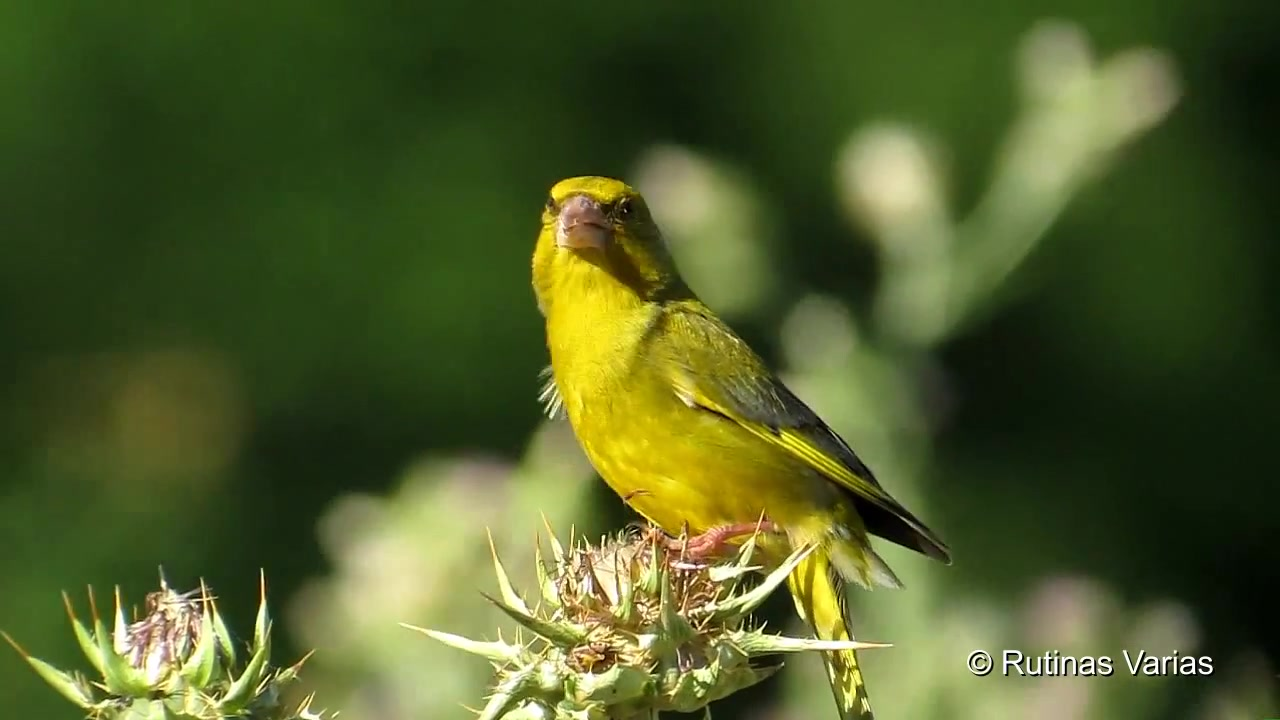bird: (531, 173, 959, 720)
